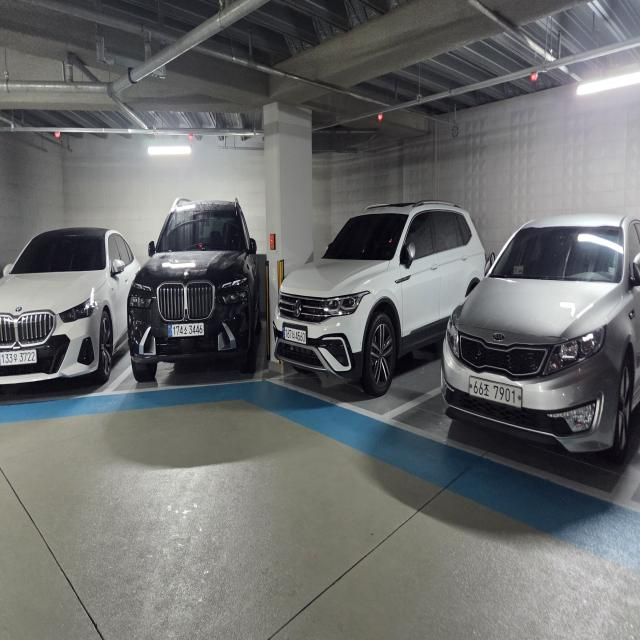car: (428, 180, 640, 482), (263, 191, 492, 398), (0, 204, 148, 416), (124, 190, 278, 390)
